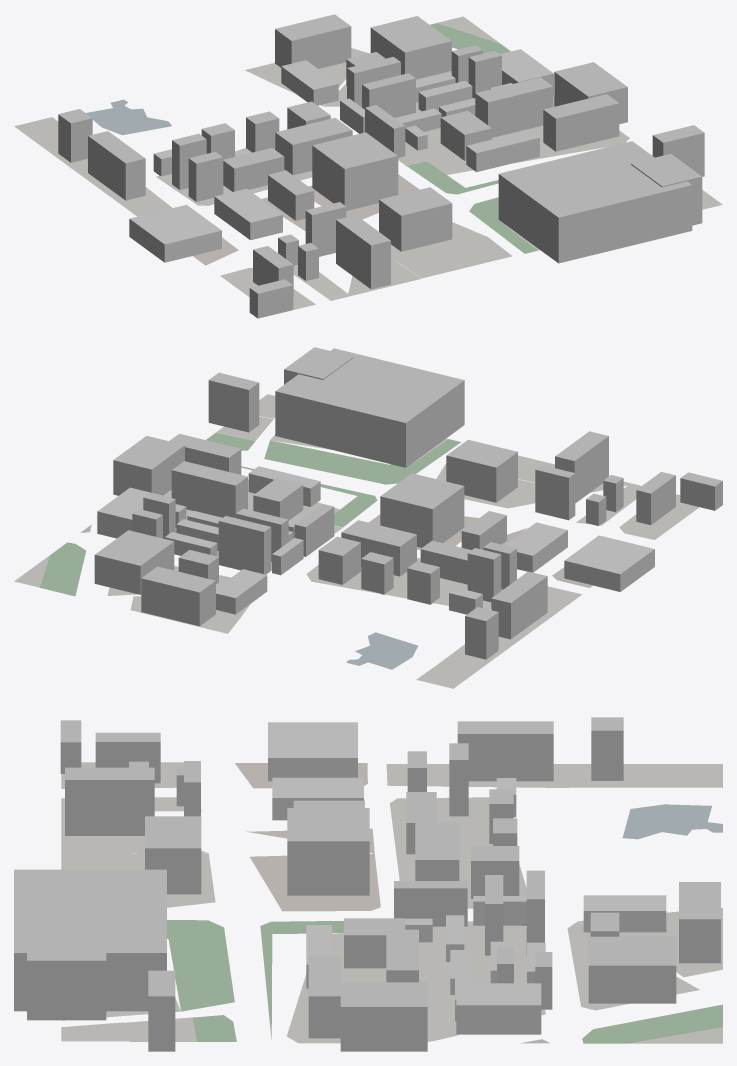
Rendered from 105_102_mid.glb.
3 views of the same model, one above another, from view 1: azimuth 30°, elevation 25°; view 2: azimuth 150°, elevation 25°; view 3: azimuth 270°, elevation 25° (orthographic). The views are drawn at different scales.
Size of the model in its own units: 548 by 51.76 by 536.
